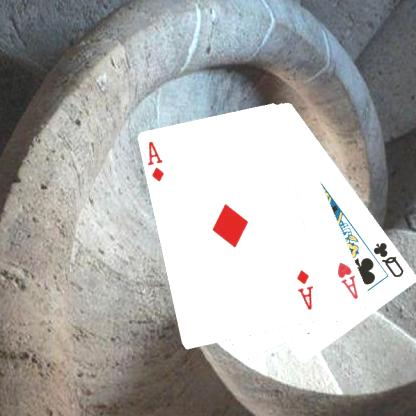AD: (294, 267, 315, 312), (145, 139, 166, 183)
AH: (334, 259, 360, 301)
QC: (370, 239, 406, 280)
